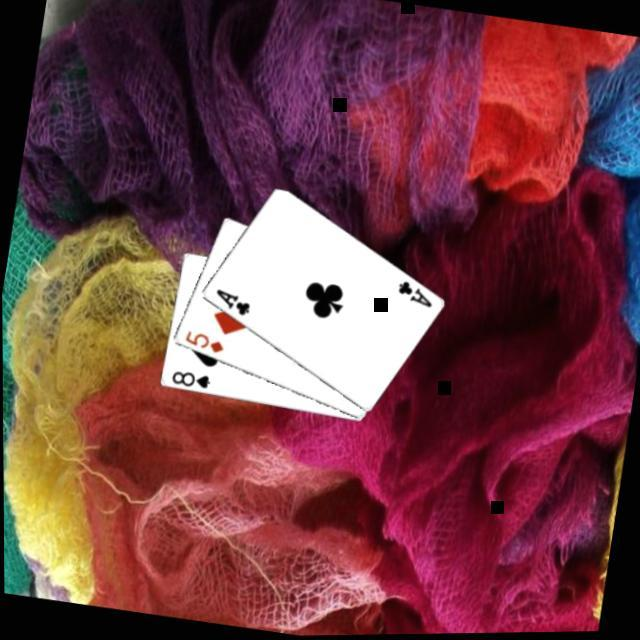5D: (182, 328, 230, 361)
8S: (168, 368, 215, 396)
AC: (212, 287, 256, 324), (394, 280, 438, 314)
